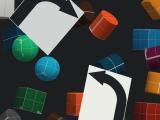Left: (78, 65, 132, 120)
Right: (9, 0, 85, 56)
